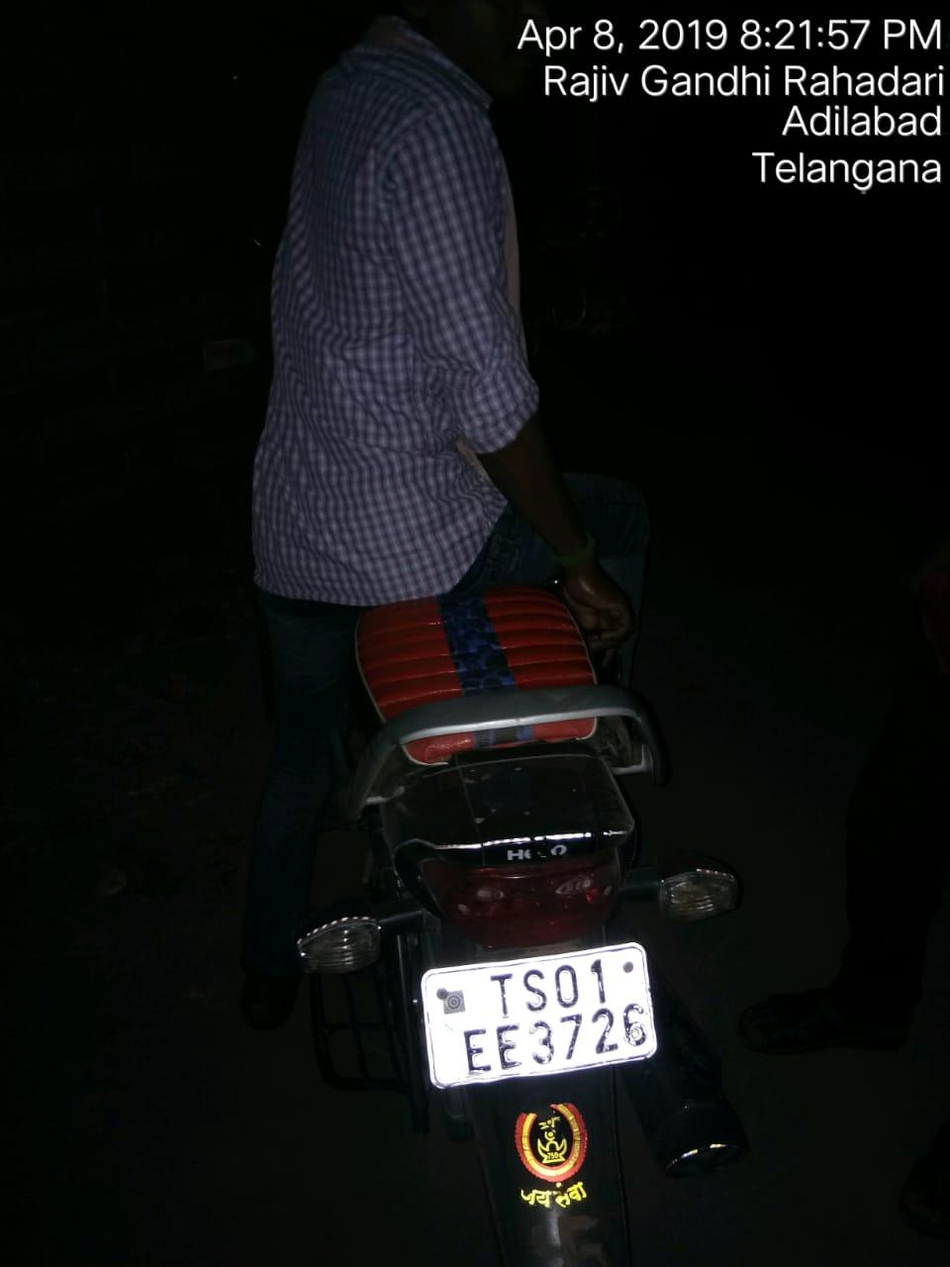plate: (392, 942, 671, 1102)
